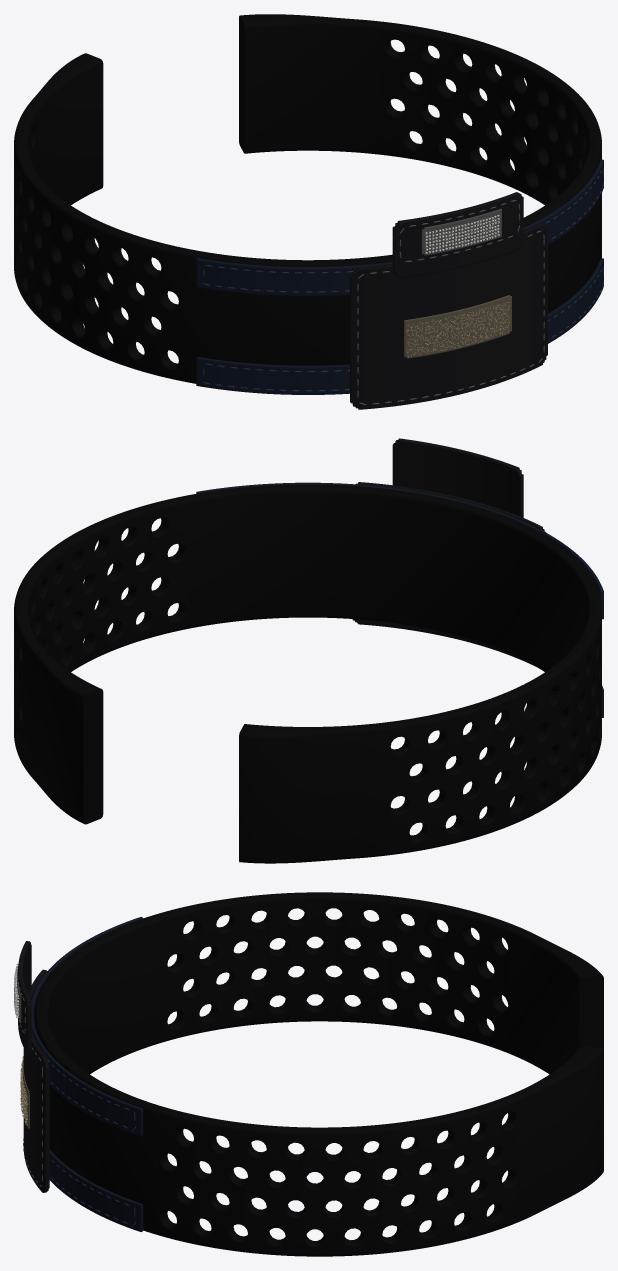
File: dispositivo_textil.obj
The picture shows the model from 3 angles, top to bottom: view 1: azimuth 30°, elevation 25°; view 2: azimuth 150°, elevation 25°; view 3: azimuth 270°, elevation 25°; orthographic projection. The views are drawn at different scales.
Parts seen in each view (by area): view 1: A_Neopreno_Banda, C_Licra_Cuerpo, B_Poliester_Lamina, C_Licra_Solapa, C_Velcro_Base_Bucles, C_Velcro_Base_Ganchos, C_Velcro_Bucles, C_Velcro_Ganchos, B_Poliester_Costuras, C_Licra_Costuras_Cuerpo; view 2: A_Neopreno_Banda, C_Licra_Solapa, B_Poliester_Lamina, C_Licra_Cuerpo; view 3: A_Neopreno_Banda, B_Poliester_Lamina, C_Licra_Cuerpo, C_Licra_Solapa.
Part boxes in pixels (left/top/right/bottom): A_Neopreno_Banda: left=14, top=14, right=601, bottom=383; C_Licra_Cuerpo: left=350, top=223, right=547, bottom=409; B_Poliester_Lamina: left=196, top=159, right=603, bottom=394; C_Licra_Solapa: left=392, top=192, right=523, bottom=278; C_Velcro_Base_Bucles: left=404, top=295, right=511, bottom=358; C_Velcro_Base_Ganchos: left=421, top=208, right=501, bottom=255; C_Velcro_Bucles: left=406, top=302, right=509, bottom=357; C_Velcro_Ganchos: left=425, top=215, right=499, bottom=253; B_Poliester_Costuras: left=202, top=168, right=603, bottom=391; C_Licra_Costuras_Cuerpo: left=357, top=230, right=544, bottom=405; A_Neopreno_Banda: left=14, top=484, right=601, bottom=863; C_Licra_Solapa: left=392, top=438, right=523, bottom=517; B_Poliester_Lamina: left=196, top=482, right=603, bottom=717; C_Licra_Cuerpo: left=352, top=482, right=545, bottom=666; A_Neopreno_Banda: left=34, top=892, right=603, bottom=1256; B_Poliester_Lamina: left=31, top=917, right=143, bottom=1231; C_Licra_Cuerpo: left=23, top=969, right=49, bottom=1192; C_Licra_Solapa: left=18, top=941, right=31, bottom=1051.
Bounding box in the file's own units: 0.189 × 0.066 × 0.1956.
